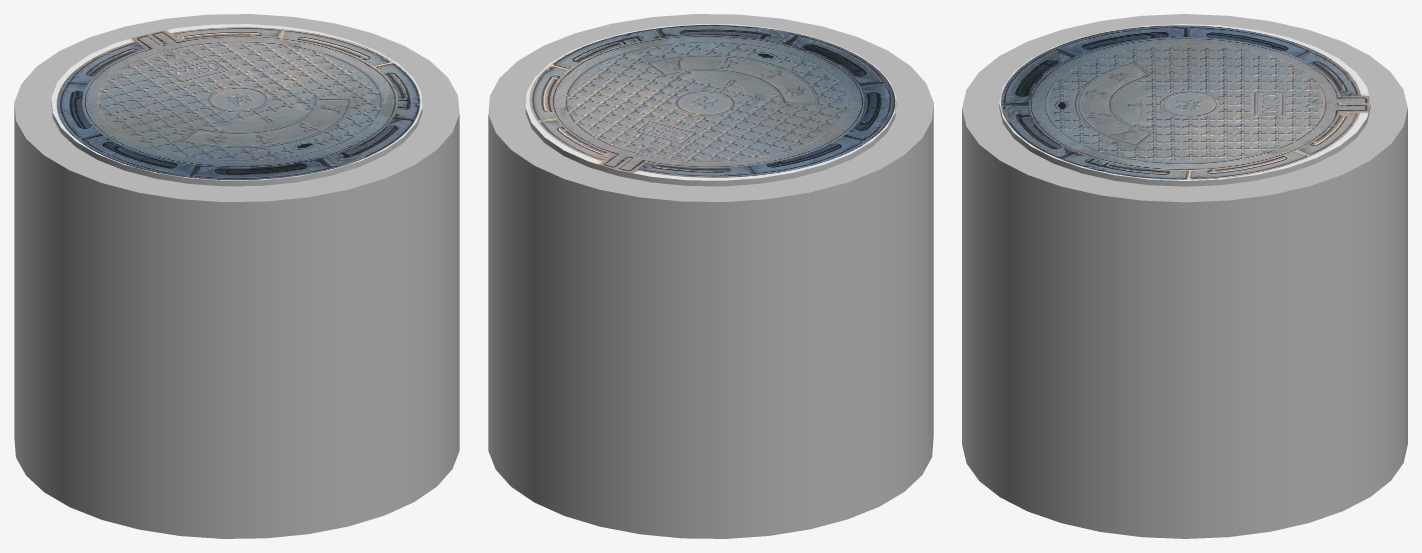
3 renders of one model, left to right at view 1: azimuth 30°, elevation 25°; view 2: azimuth 150°, elevation 25°; view 3: azimuth 270°, elevation 25°, orthographic.
Visible parts, largest first — view 1: 543013_1; view 2: 543013_1; view 3: 543013_1.
Part boxes in pixels (x1,y1,x2,y2): 543013_1: [14, 14, 459, 538]; 543013_1: [488, 14, 933, 538]; 543013_1: [962, 14, 1407, 538].
Bounding box in the file's own units: 1.2 × 1.02 × 1.2.
3 materials, 1 textured.
